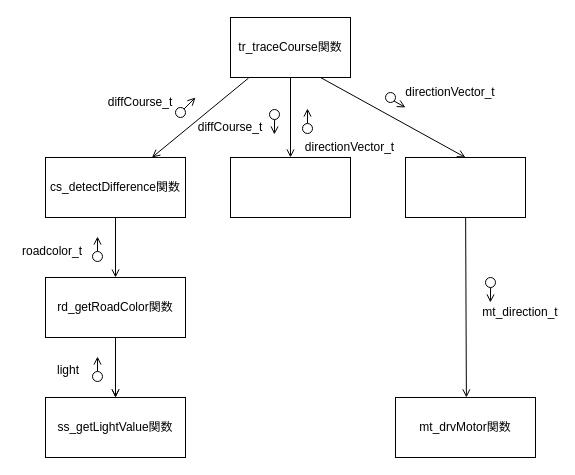
Image size: 575x475. Some labels were removed from this diagram. The centre of each missing label's shape, as x and y in pixels:
dr_move関数: (465,187)
nv_naviCourse関数: (290,187)
